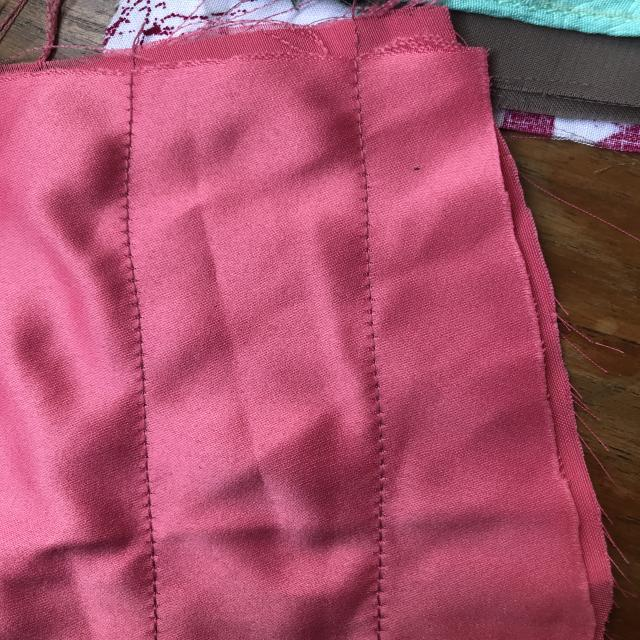good: (118, 297, 170, 462)
